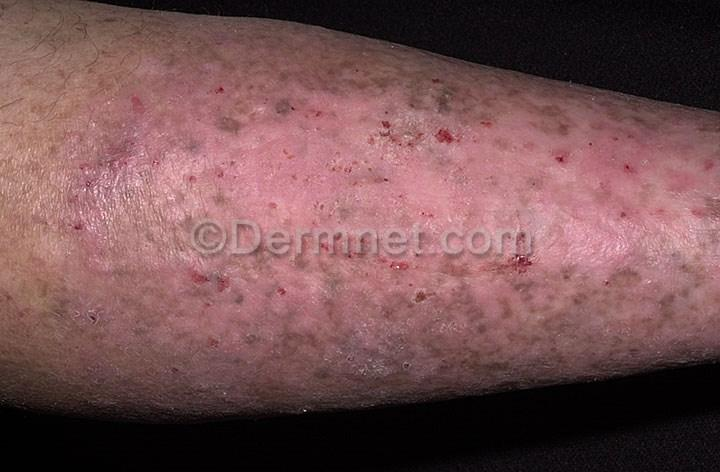Eczema: (157, 81, 558, 233), (556, 99, 719, 348), (261, 273, 561, 403), (60, 277, 257, 429), (60, 58, 153, 274), (149, 17, 388, 82)
